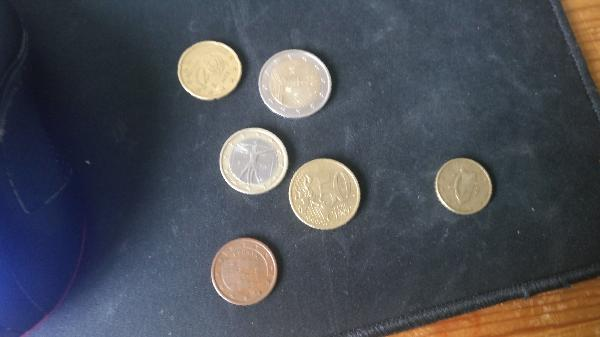Fifty Cent: (290, 157, 361, 230)
Five Cent: (209, 239, 281, 305)
One Euro: (217, 126, 291, 195)
Ten Cent: (433, 160, 497, 215)
Twenty Cent: (178, 41, 244, 101)
Two Euro: (258, 51, 341, 117)
